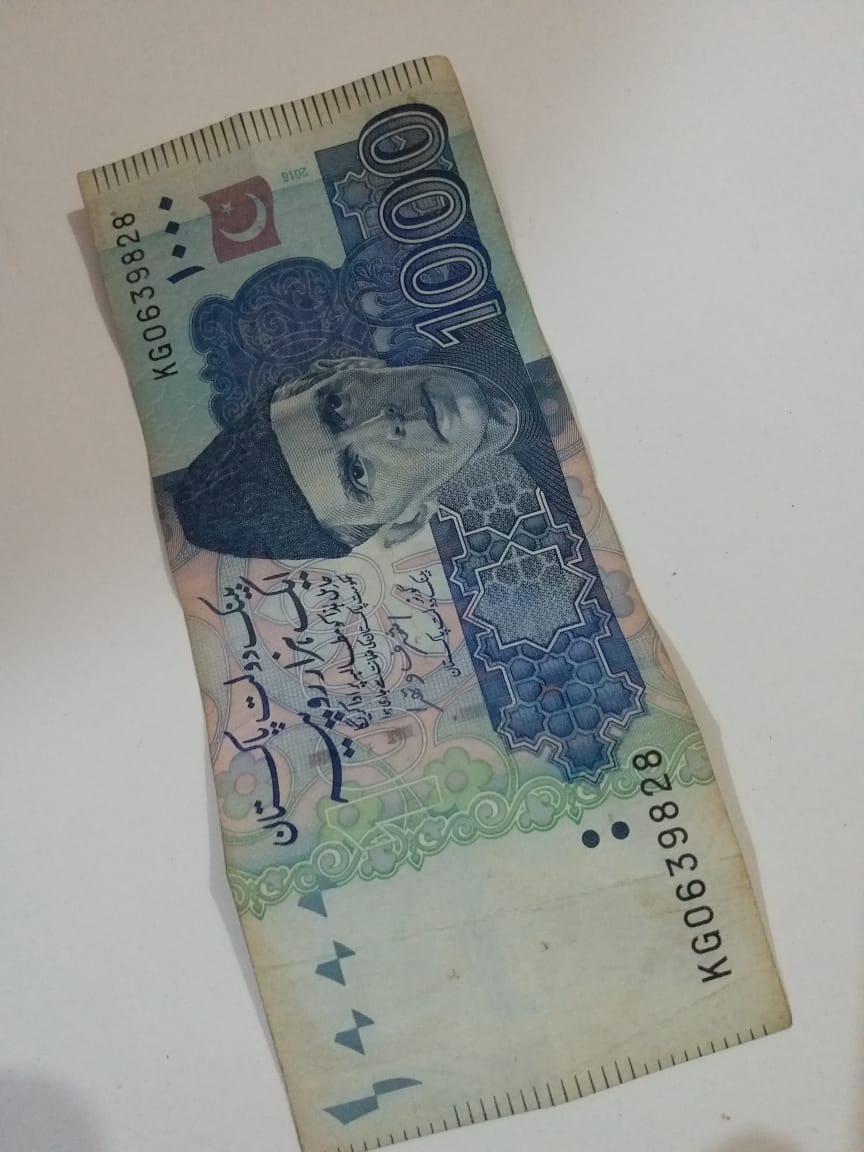1000 rupee: (64, 47, 780, 1135)
